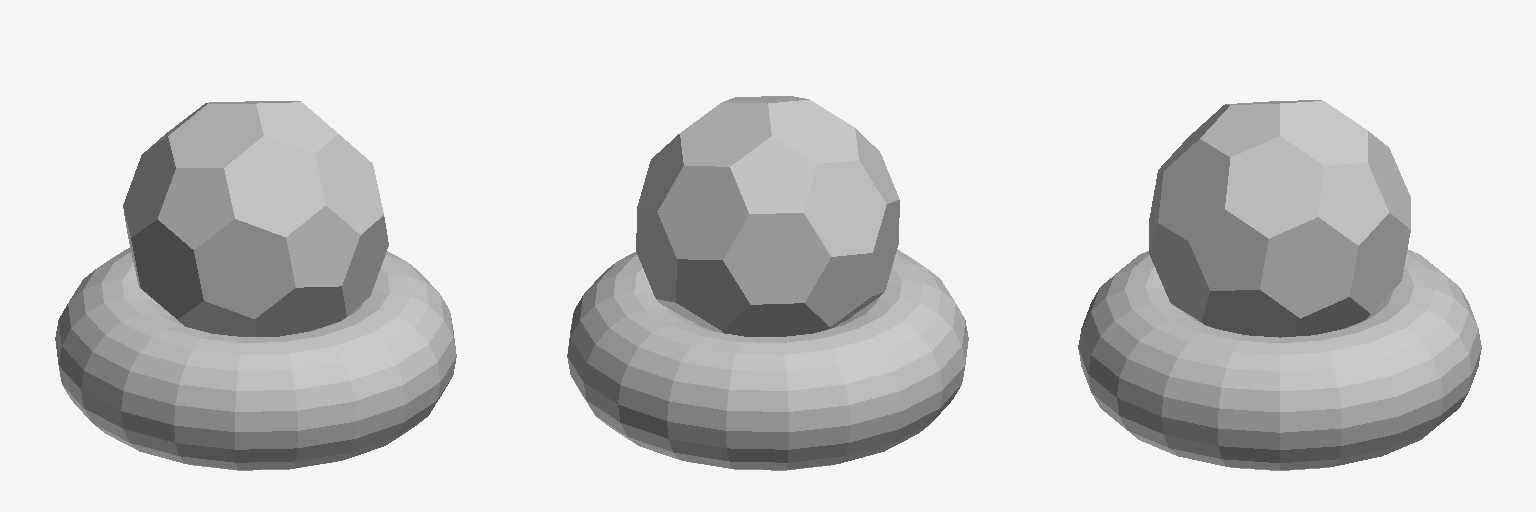
3 renders of one model, left to right at view 1: azimuth 30°, elevation 25°; view 2: azimuth 150°, elevation 25°; view 3: azimuth 270°, elevation 25°, orthographic.
Parts seen in each view (by area): view 1: pTorus1, pSolid1; view 2: pTorus1, pSolid1; view 3: pTorus1, pSolid1.
Boxes of the visible parts, box(x1,y1,x2,y2) form: pTorus1: box(55, 248, 456, 470); pSolid1: box(123, 101, 388, 336); pTorus1: box(567, 249, 968, 470); pSolid1: box(636, 96, 899, 336); pTorus1: box(1078, 250, 1481, 470); pSolid1: box(1149, 100, 1410, 337).
Bounding box in the file's own units: 3 × 2.5 × 3.